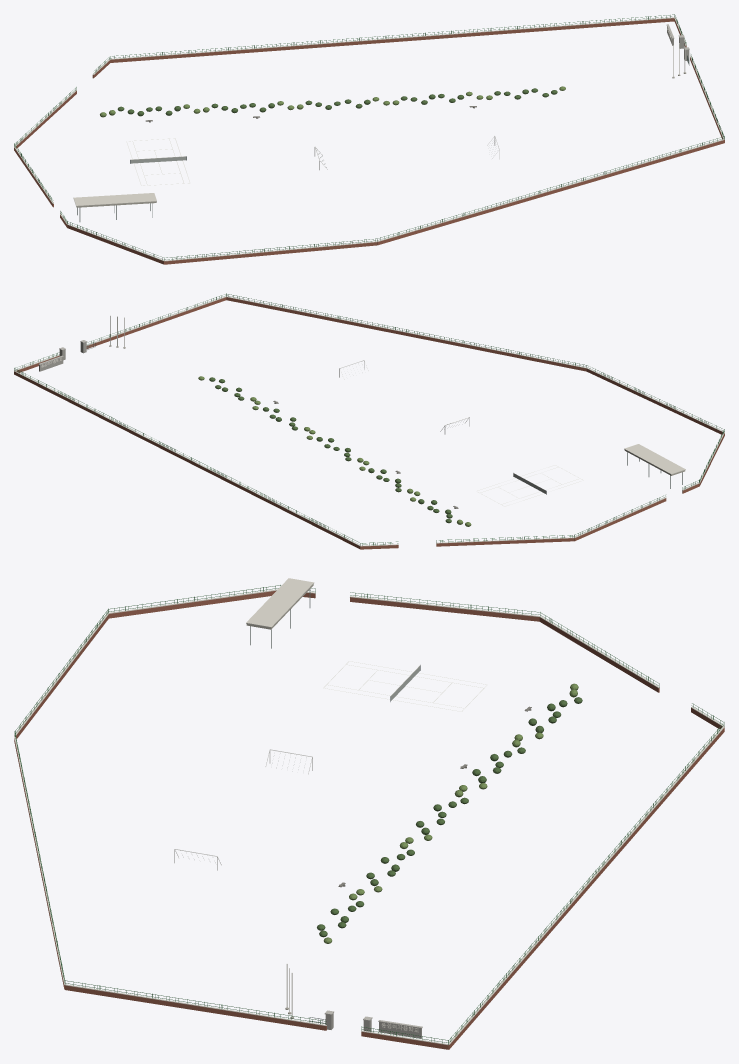
The picture shows the model from 3 angles, top to bottom: view 1: azimuth 30°, elevation 25°; view 2: azimuth 150°, elevation 25°; view 3: azimuth 270°, elevation 25°; orthographic projection. The views are drawn at different scales.
Visible parts, largest first — view 1: prop_boundary-fence, prop_flowerbeds, prop_link-walk; view 2: prop_boundary-fence, prop_flowerbeds, prop_link-walk; view 3: prop_boundary-fence, prop_flowerbeds, prop_link-walk.
Part boxes in pixels (x1,y1,x2,y2): prop_boundary-fence: (14,14,724,264); prop_flowerbeds: (100,86,565,117); prop_link-walk: (73,193,156,221); prop_boundary-fence: (14,293,724,549); prop_flowerbeds: (198,376,471,526); prop_link-walk: (624,444,685,488); prop_boundary-fence: (14,585,724,1049); prop_flowerbeds: (317,683,582,943); prop_link-walk: (246,578,314,648).
Bounding box in the file's own units: 172 × 8.12 × 113.
